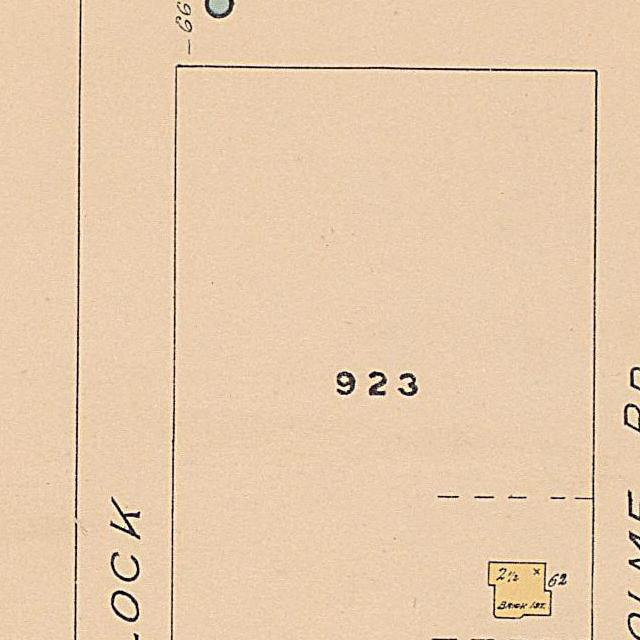building-footprints: (489, 562, 551, 618)
